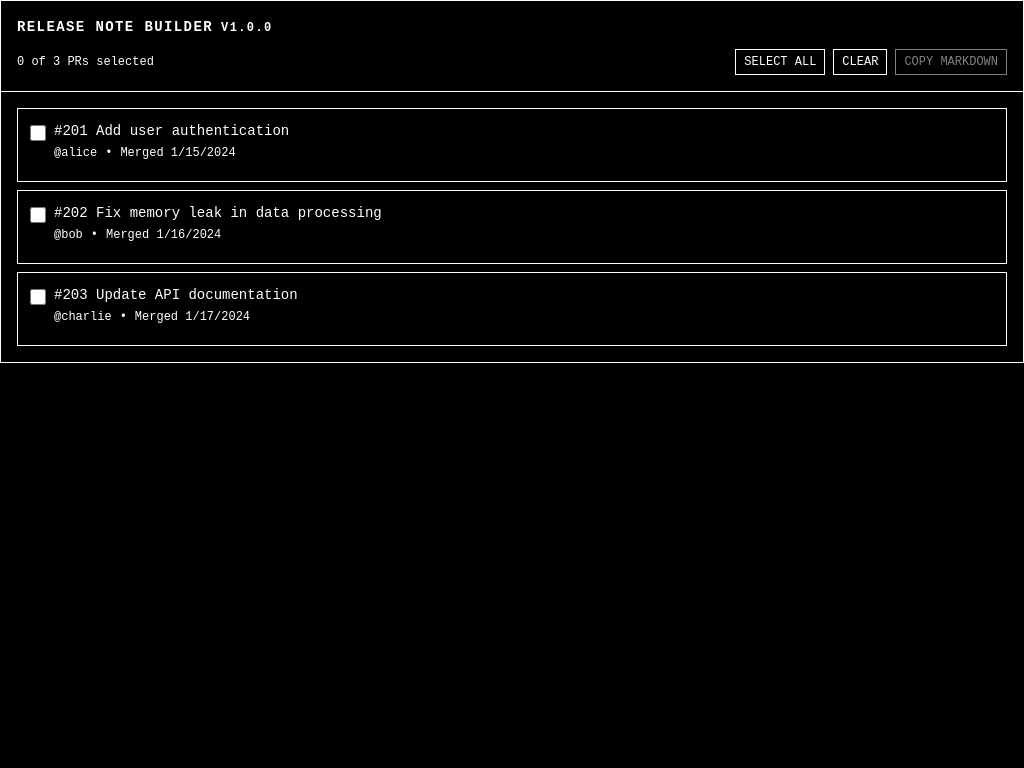
Test: ReleaseNoteBuilder › maintains selection state when toggling PRs
# Select first PR
Click the checkbox next to "201" at {"x": 38, "y": 133}, box [30, 125, 46, 141]
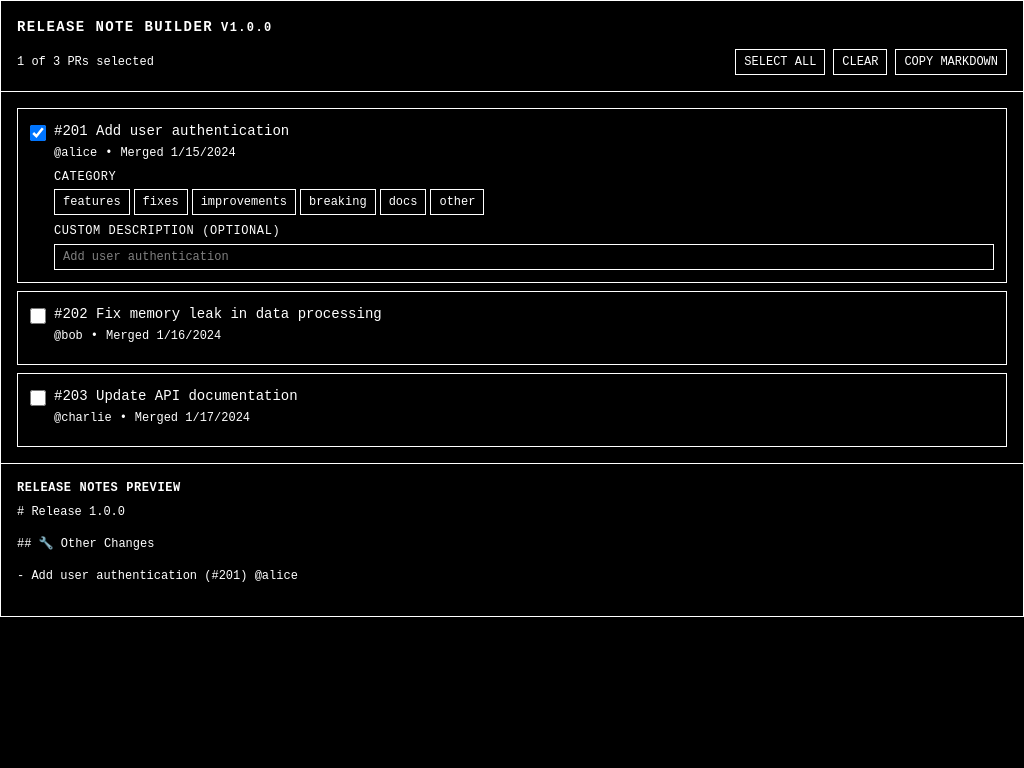
Check: the text "1 of 3 PRs selected" is shown, box [17, 54, 154, 70]
# Deselect first PR
Click the 1st checkbox at {"x": 38, "y": 133}, box [30, 125, 46, 141]
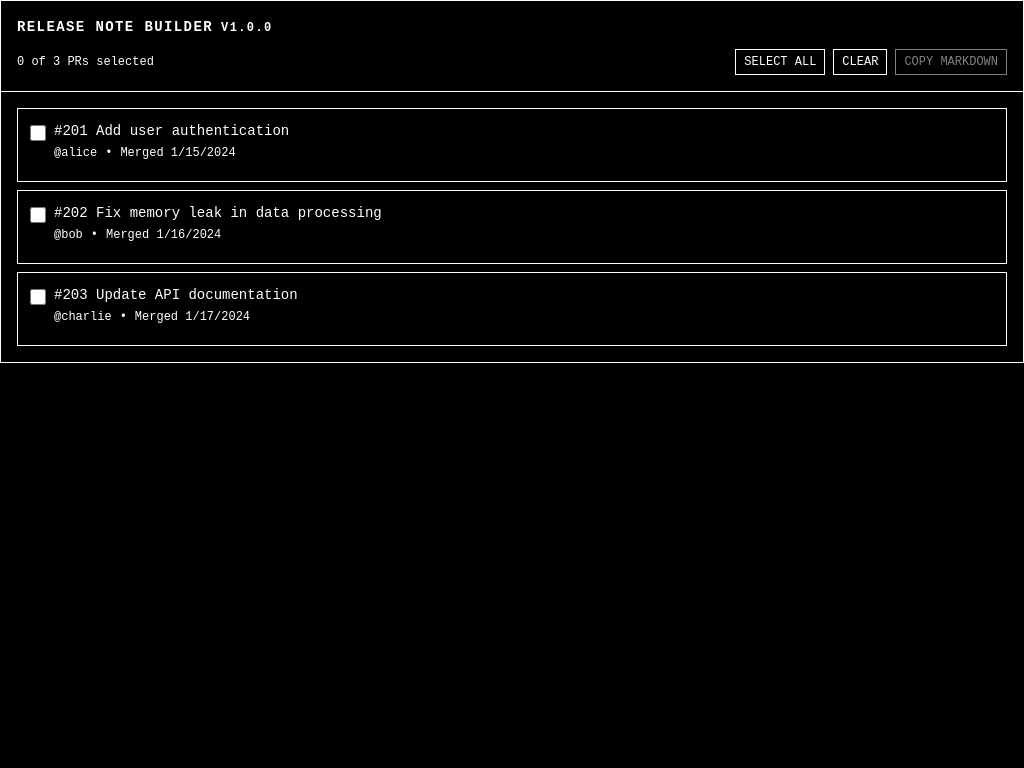
Check: the text "0 of 3 PRs selected" is shown, box [17, 54, 154, 70]
